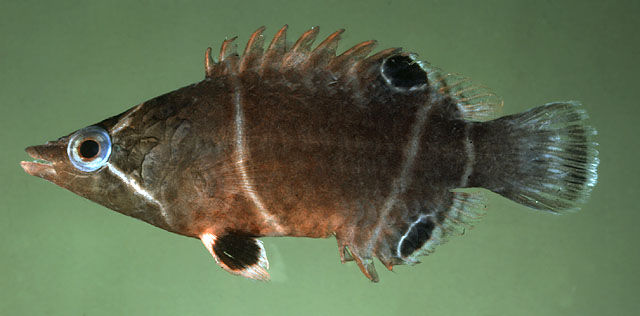fish: (20, 23, 601, 285)
